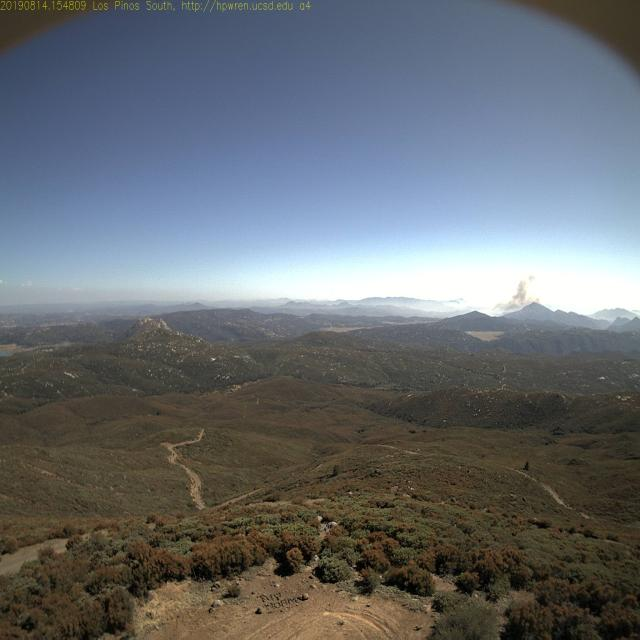smoke: (497, 266, 542, 318)
